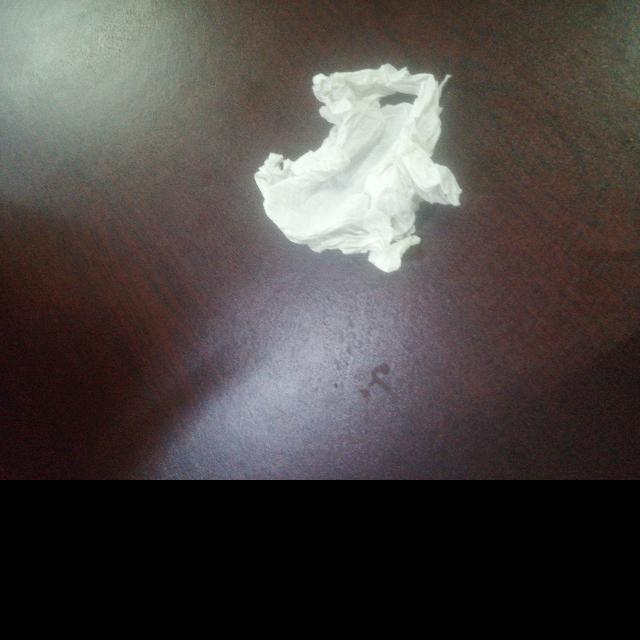kitchen paper: (253, 59, 467, 276)
